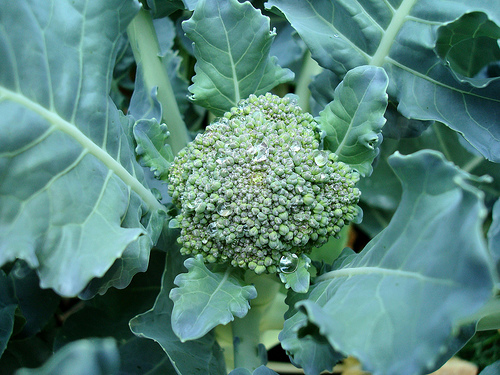broccoli: (165, 92, 366, 278)
